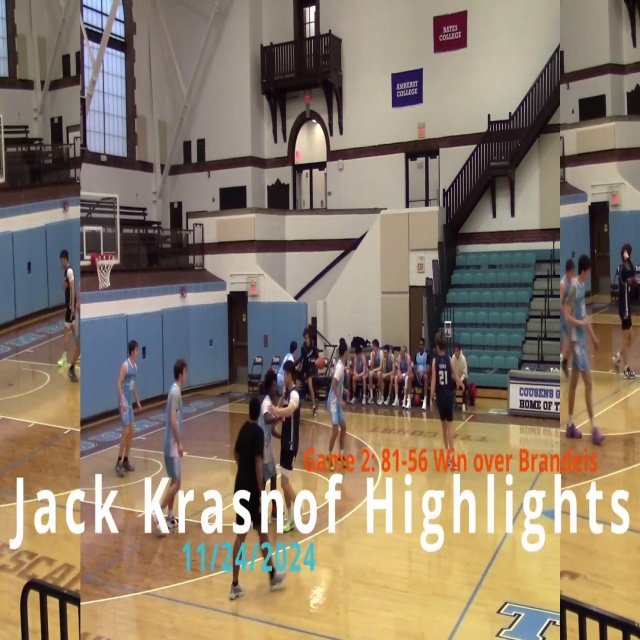Basketball: (264, 412, 277, 424), (315, 357, 325, 370), (57, 359, 64, 367)
